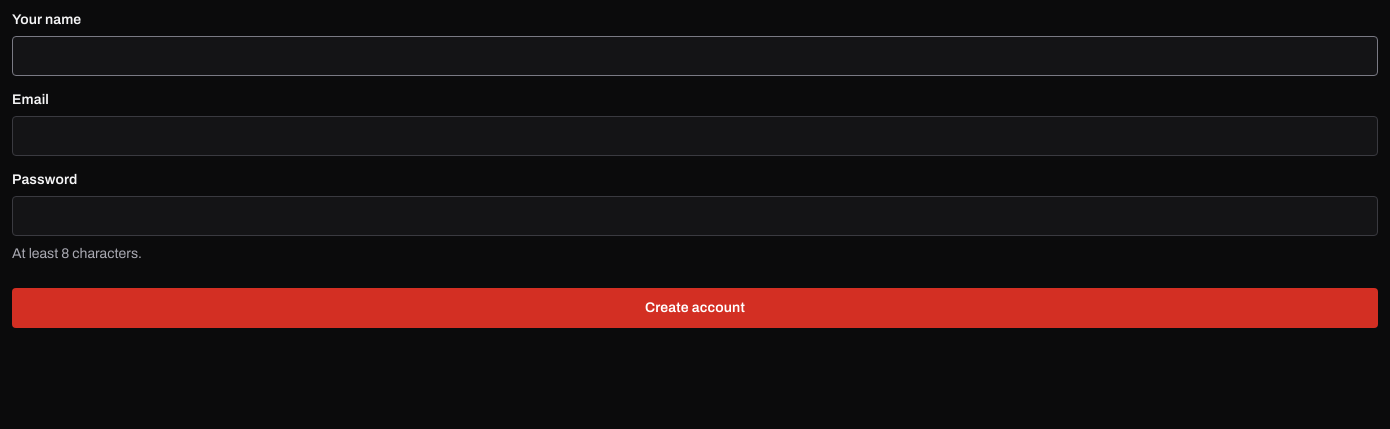
Test: RegisterForm › requires a long enough password
Type "short" into the password field labelled "Password".
click(695, 216); type("short")  # box [12,196,1378,236]
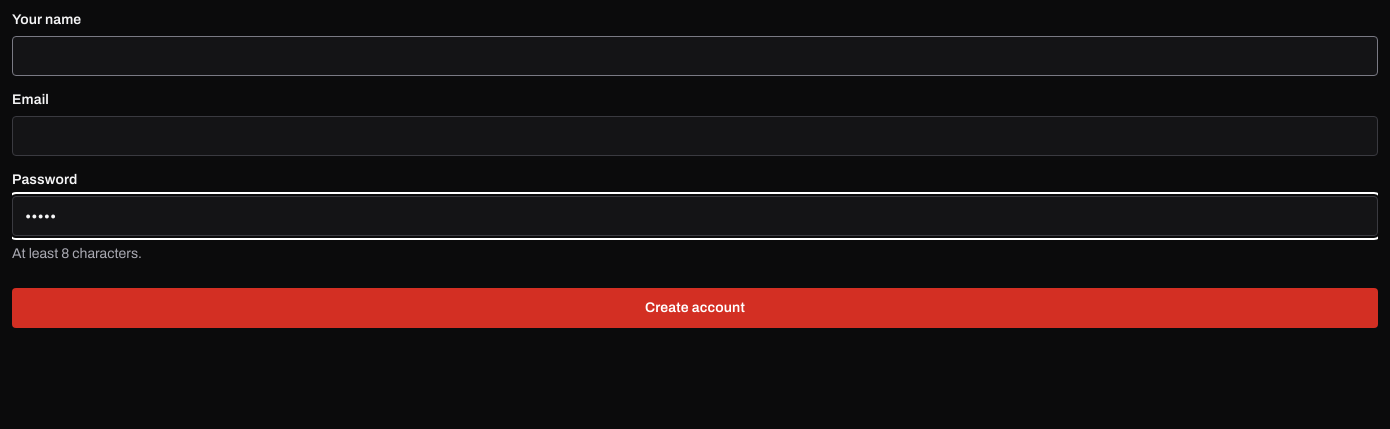
Click the button "Create account".
click(695, 308)  # box [12,288,1378,328]
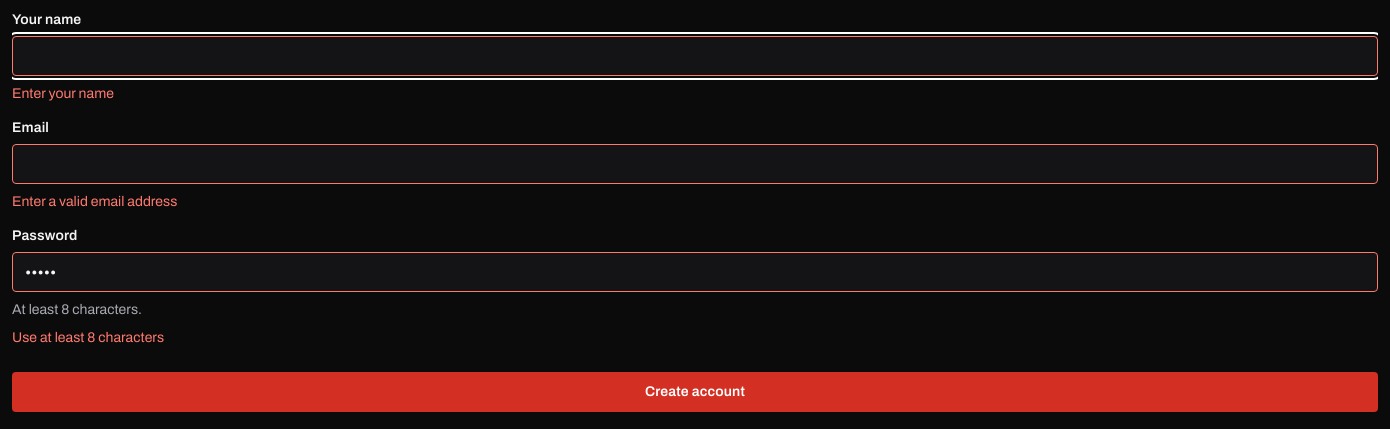
Now the text "Use at least 8 characters" is shown, box [12,330,164,345]
